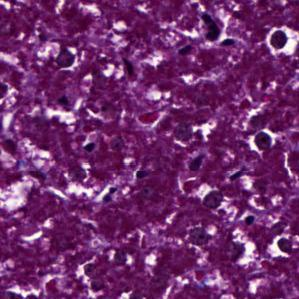inflammation: (230, 231, 260, 272), (195, 183, 228, 216), (266, 24, 298, 57), (248, 127, 278, 158), (50, 45, 83, 72), (267, 233, 296, 262)
